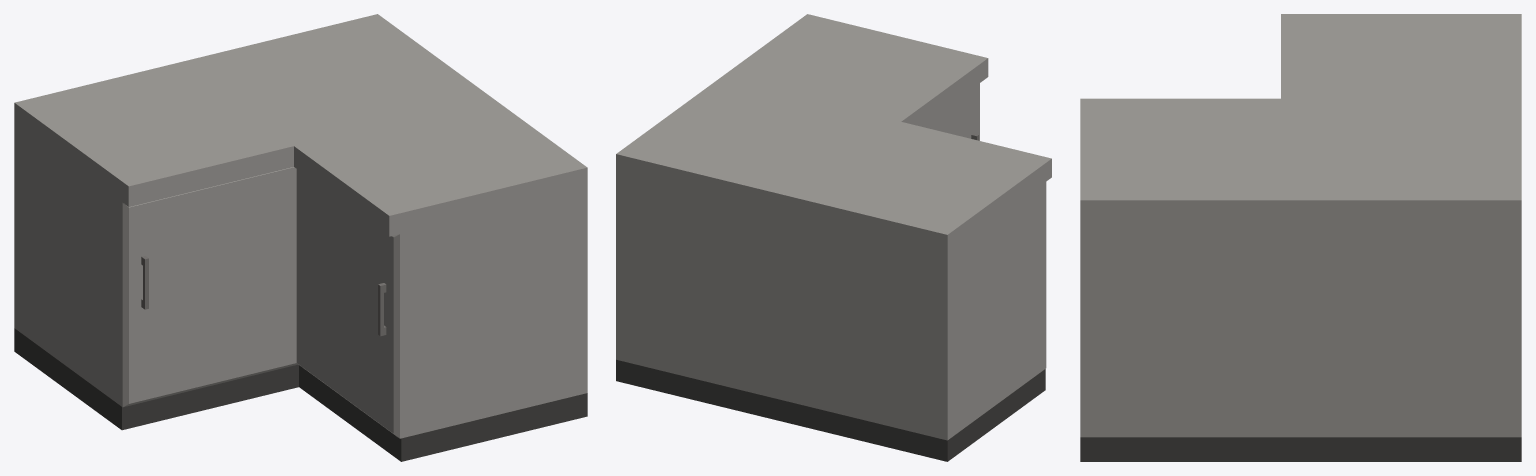
Rendered from SM_Props_Interior_House_Kitchen_Drawer_Corner.fbx.
3 renders of one model, left to right at view 1: azimuth 30°, elevation 25°; view 2: azimuth 150°, elevation 25°; view 3: azimuth 270°, elevation 25°, orthographic. The views are drawn at different scales.
Parts seen in each view (by area): view 1: SM_Props_Interior_House_Kitchen_Drawer_Corner; view 2: SM_Props_Interior_House_Kitchen_Drawer_Corner; view 3: SM_Props_Interior_House_Kitchen_Drawer_Corner.
Part boxes in pixels (x1=…): SM_Props_Interior_House_Kitchen_Drawer_Corner: x1=14, y1=14, x2=587, y2=461; SM_Props_Interior_House_Kitchen_Drawer_Corner: x1=616, y1=14, x2=1051, y2=461; SM_Props_Interior_House_Kitchen_Drawer_Corner: x1=1080, y1=14, x2=1521, y2=461.
Bounding box in the file's own units: 138 × 90 × 138.
